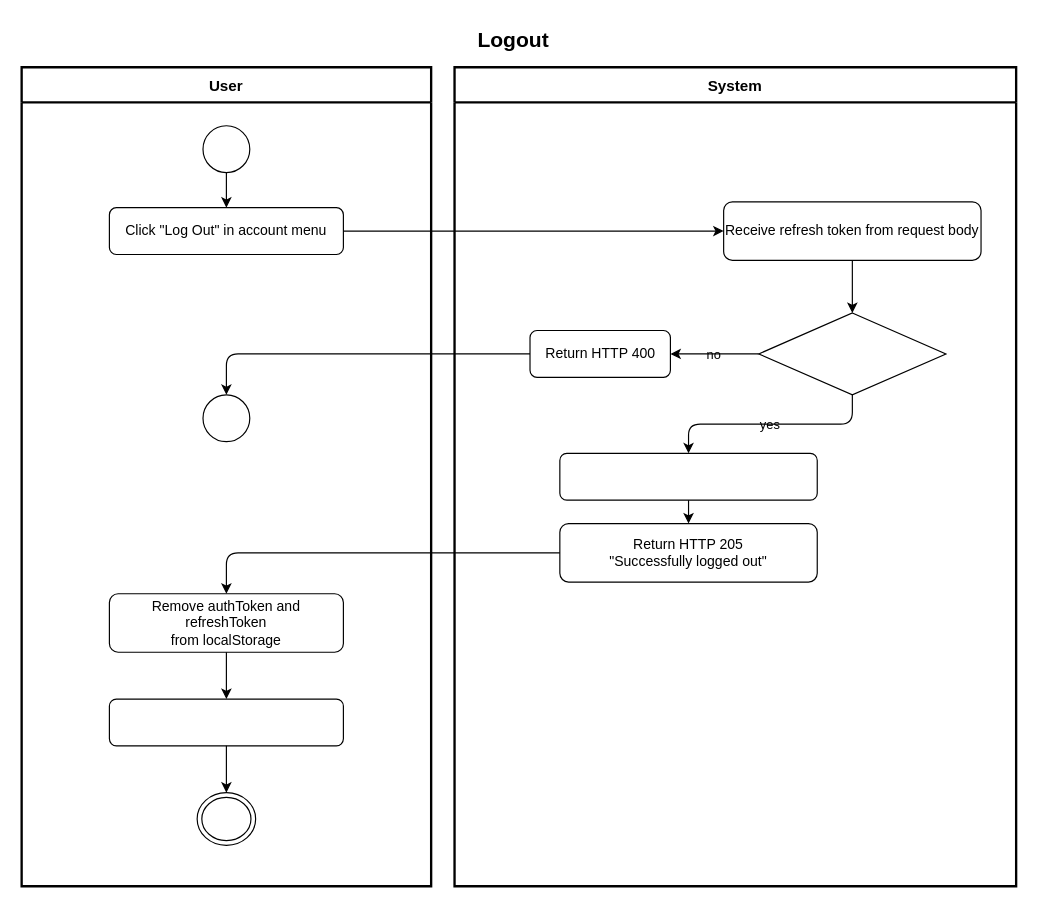
Image size: 1037x907. Some labels were removed from this diagram. The shapes that lost their labels are listed below. From the top down, each one's centre as x and y in pixels, then its label:
At point (852, 353): "Token valid?".
At point (688, 476): "Blacklist the refresh token".
At point (225, 722): "Redirect to Login page".
